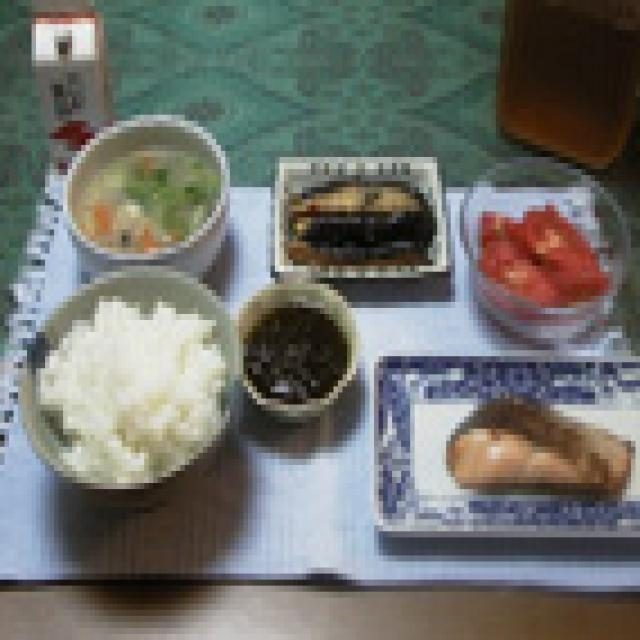熟制海鲜: (437, 374, 640, 514)
